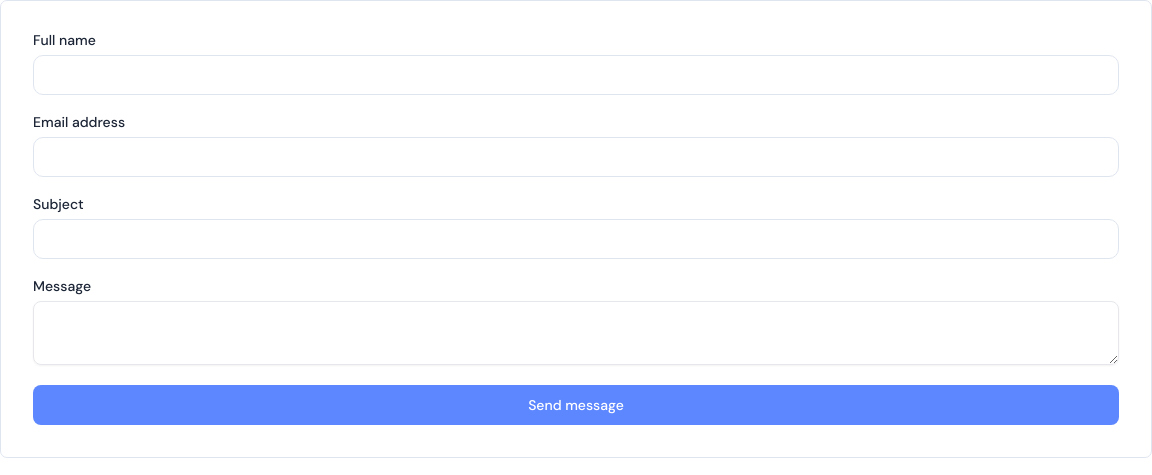
Test case: contact form › submits valid data and shows success
The image size is (1152, 475).
Type "Ada Obi" into the field labelled "Full name" at (576, 75), box [33,55,1119,95]
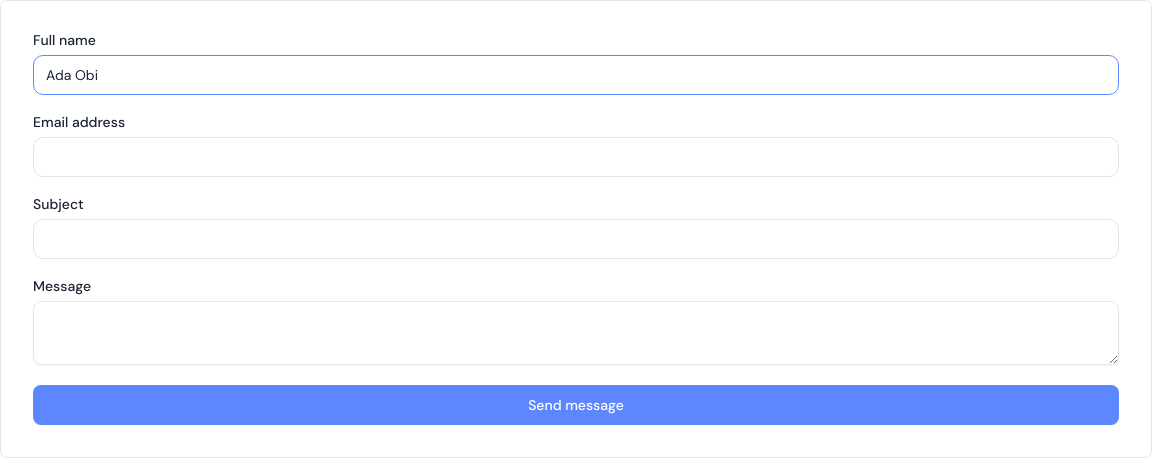
Type "ada@example.com" into the field labelled "Email address" at (576, 157), box [33,137,1119,177]
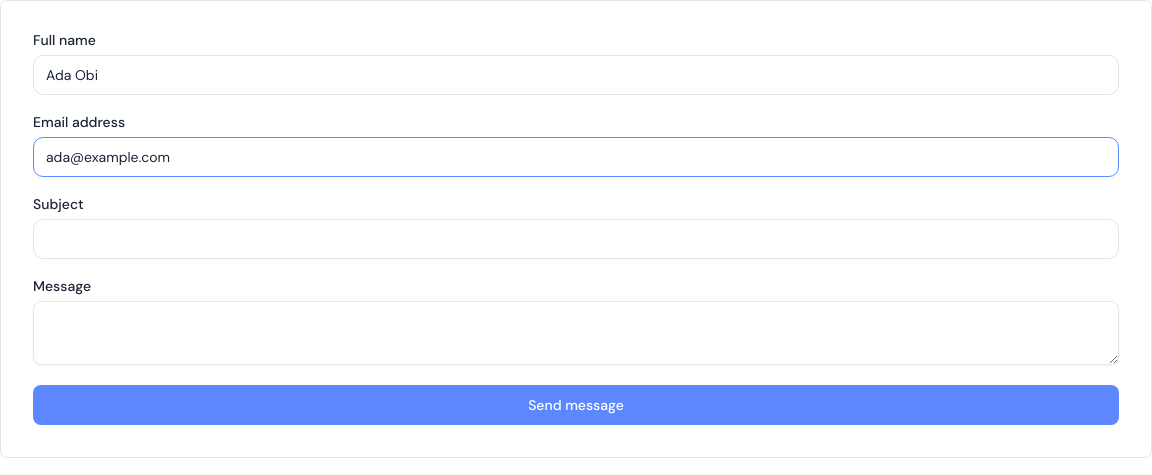
Type "Pricing question" into the field labelled "Subject" at (576, 239), box [33,219,1119,259]
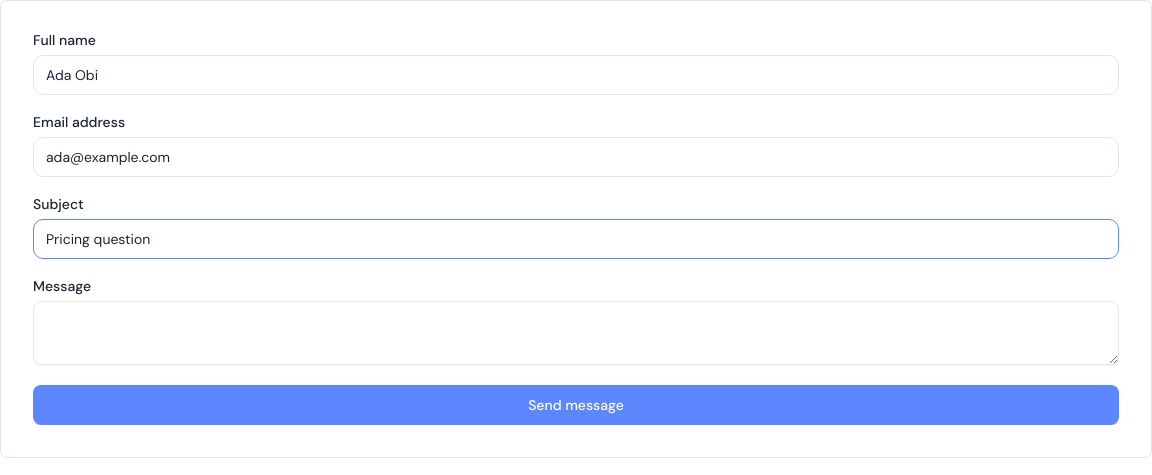
Type "Hello, I would like to know more." into the text box labelled "Message" at (576, 333), box [33,301,1119,365]
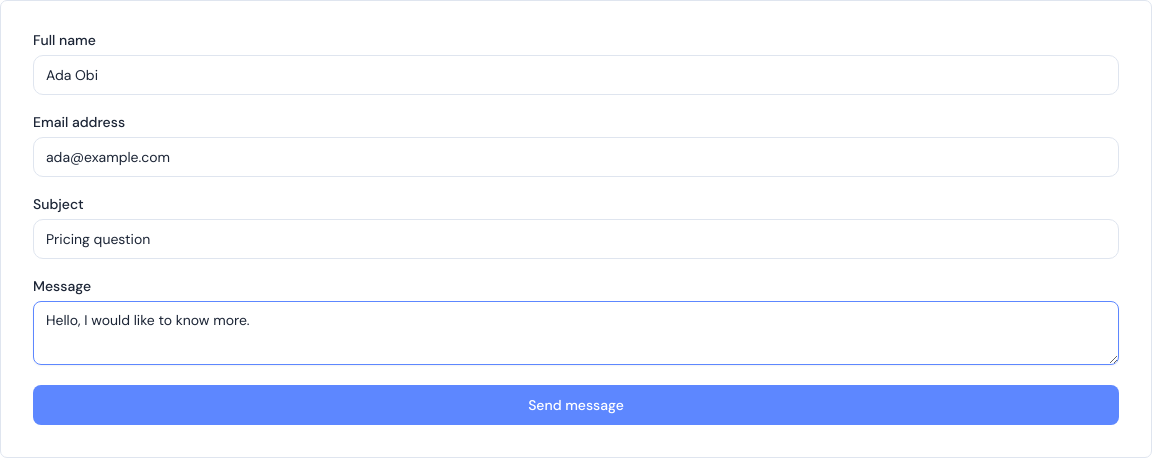
Click the button "Send message" at (576, 405), box [33,385,1119,425]
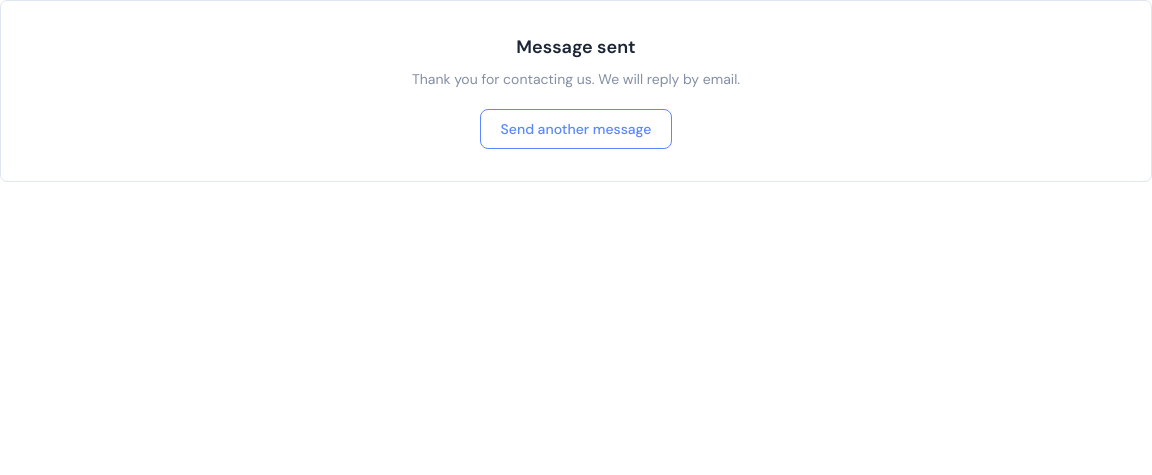
Result: the heading "Message sent" is shown at [516,35,636,59]
